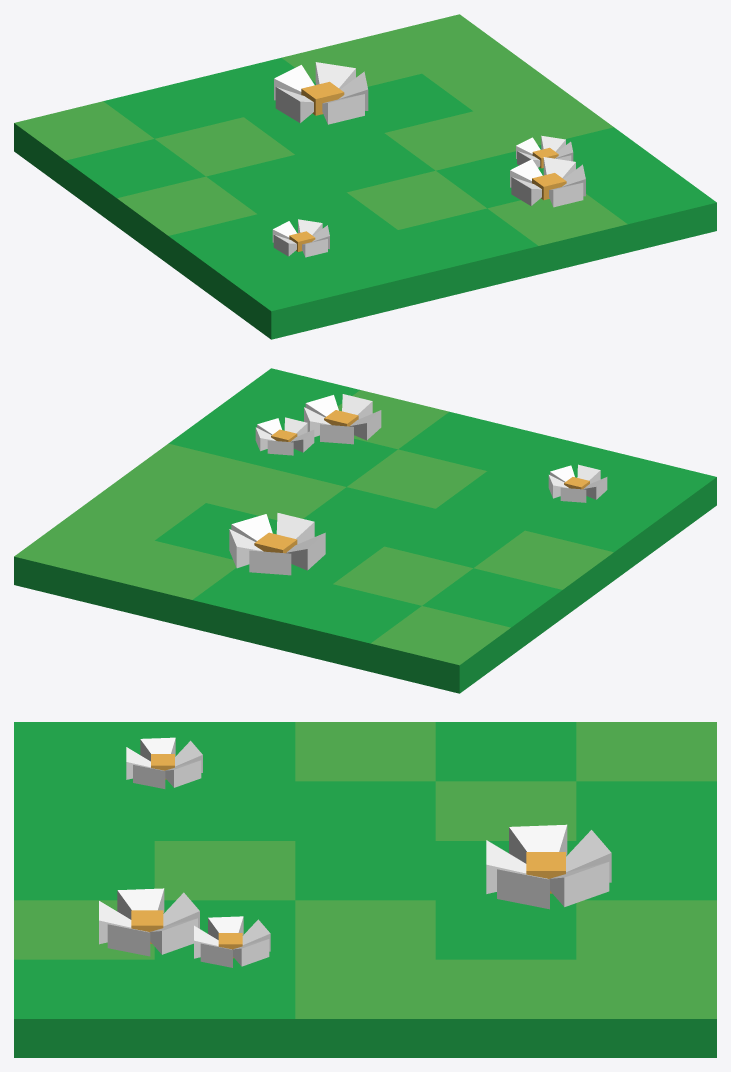
Rendered from Ground_01.FBX.
The picture shows the model from 3 angles, top to bottom: view 1: azimuth 30°, elevation 25°; view 2: azimuth 150°, elevation 25°; view 3: azimuth 270°, elevation 25°; orthographic projection. The views are drawn at different scales.
Parts seen in each view (by area): view 1: Ground_001; view 2: Ground_001; view 3: Ground_001.
Boxes of the visible parts, <box> form: Ground_001: <box>14,14,716,339</box>; Ground_001: <box>14,368,716,693</box>; Ground_001: <box>14,722,716,1057</box>.
Bounding box in the file's own units: 30 × 30 × 3.49.
